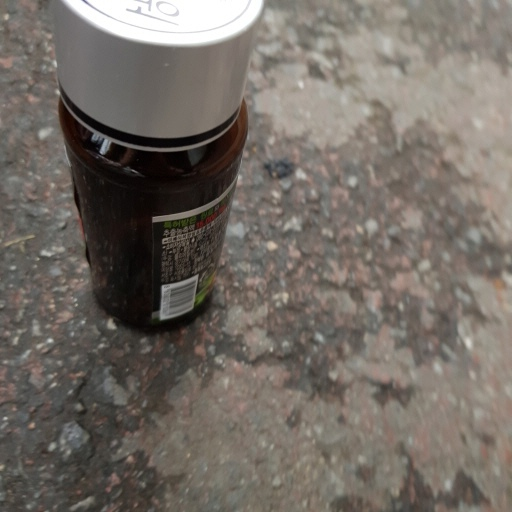Glass_3: (48, 1, 267, 335)
